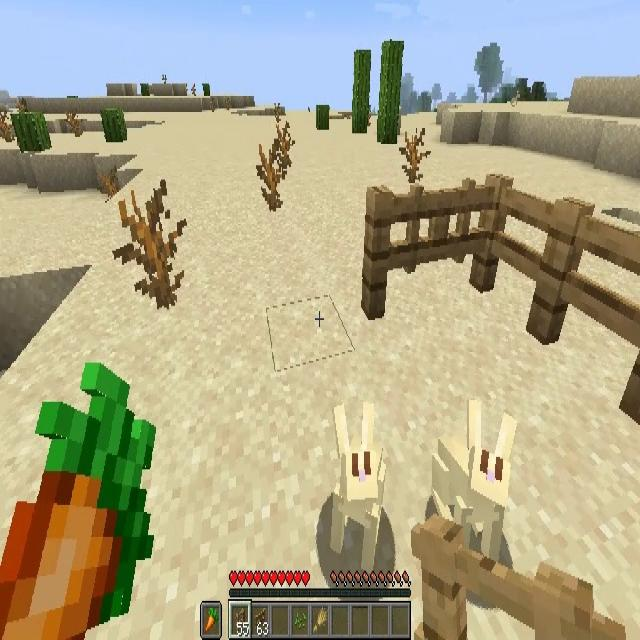rabbit: (426, 412, 509, 562), (331, 406, 386, 539)
